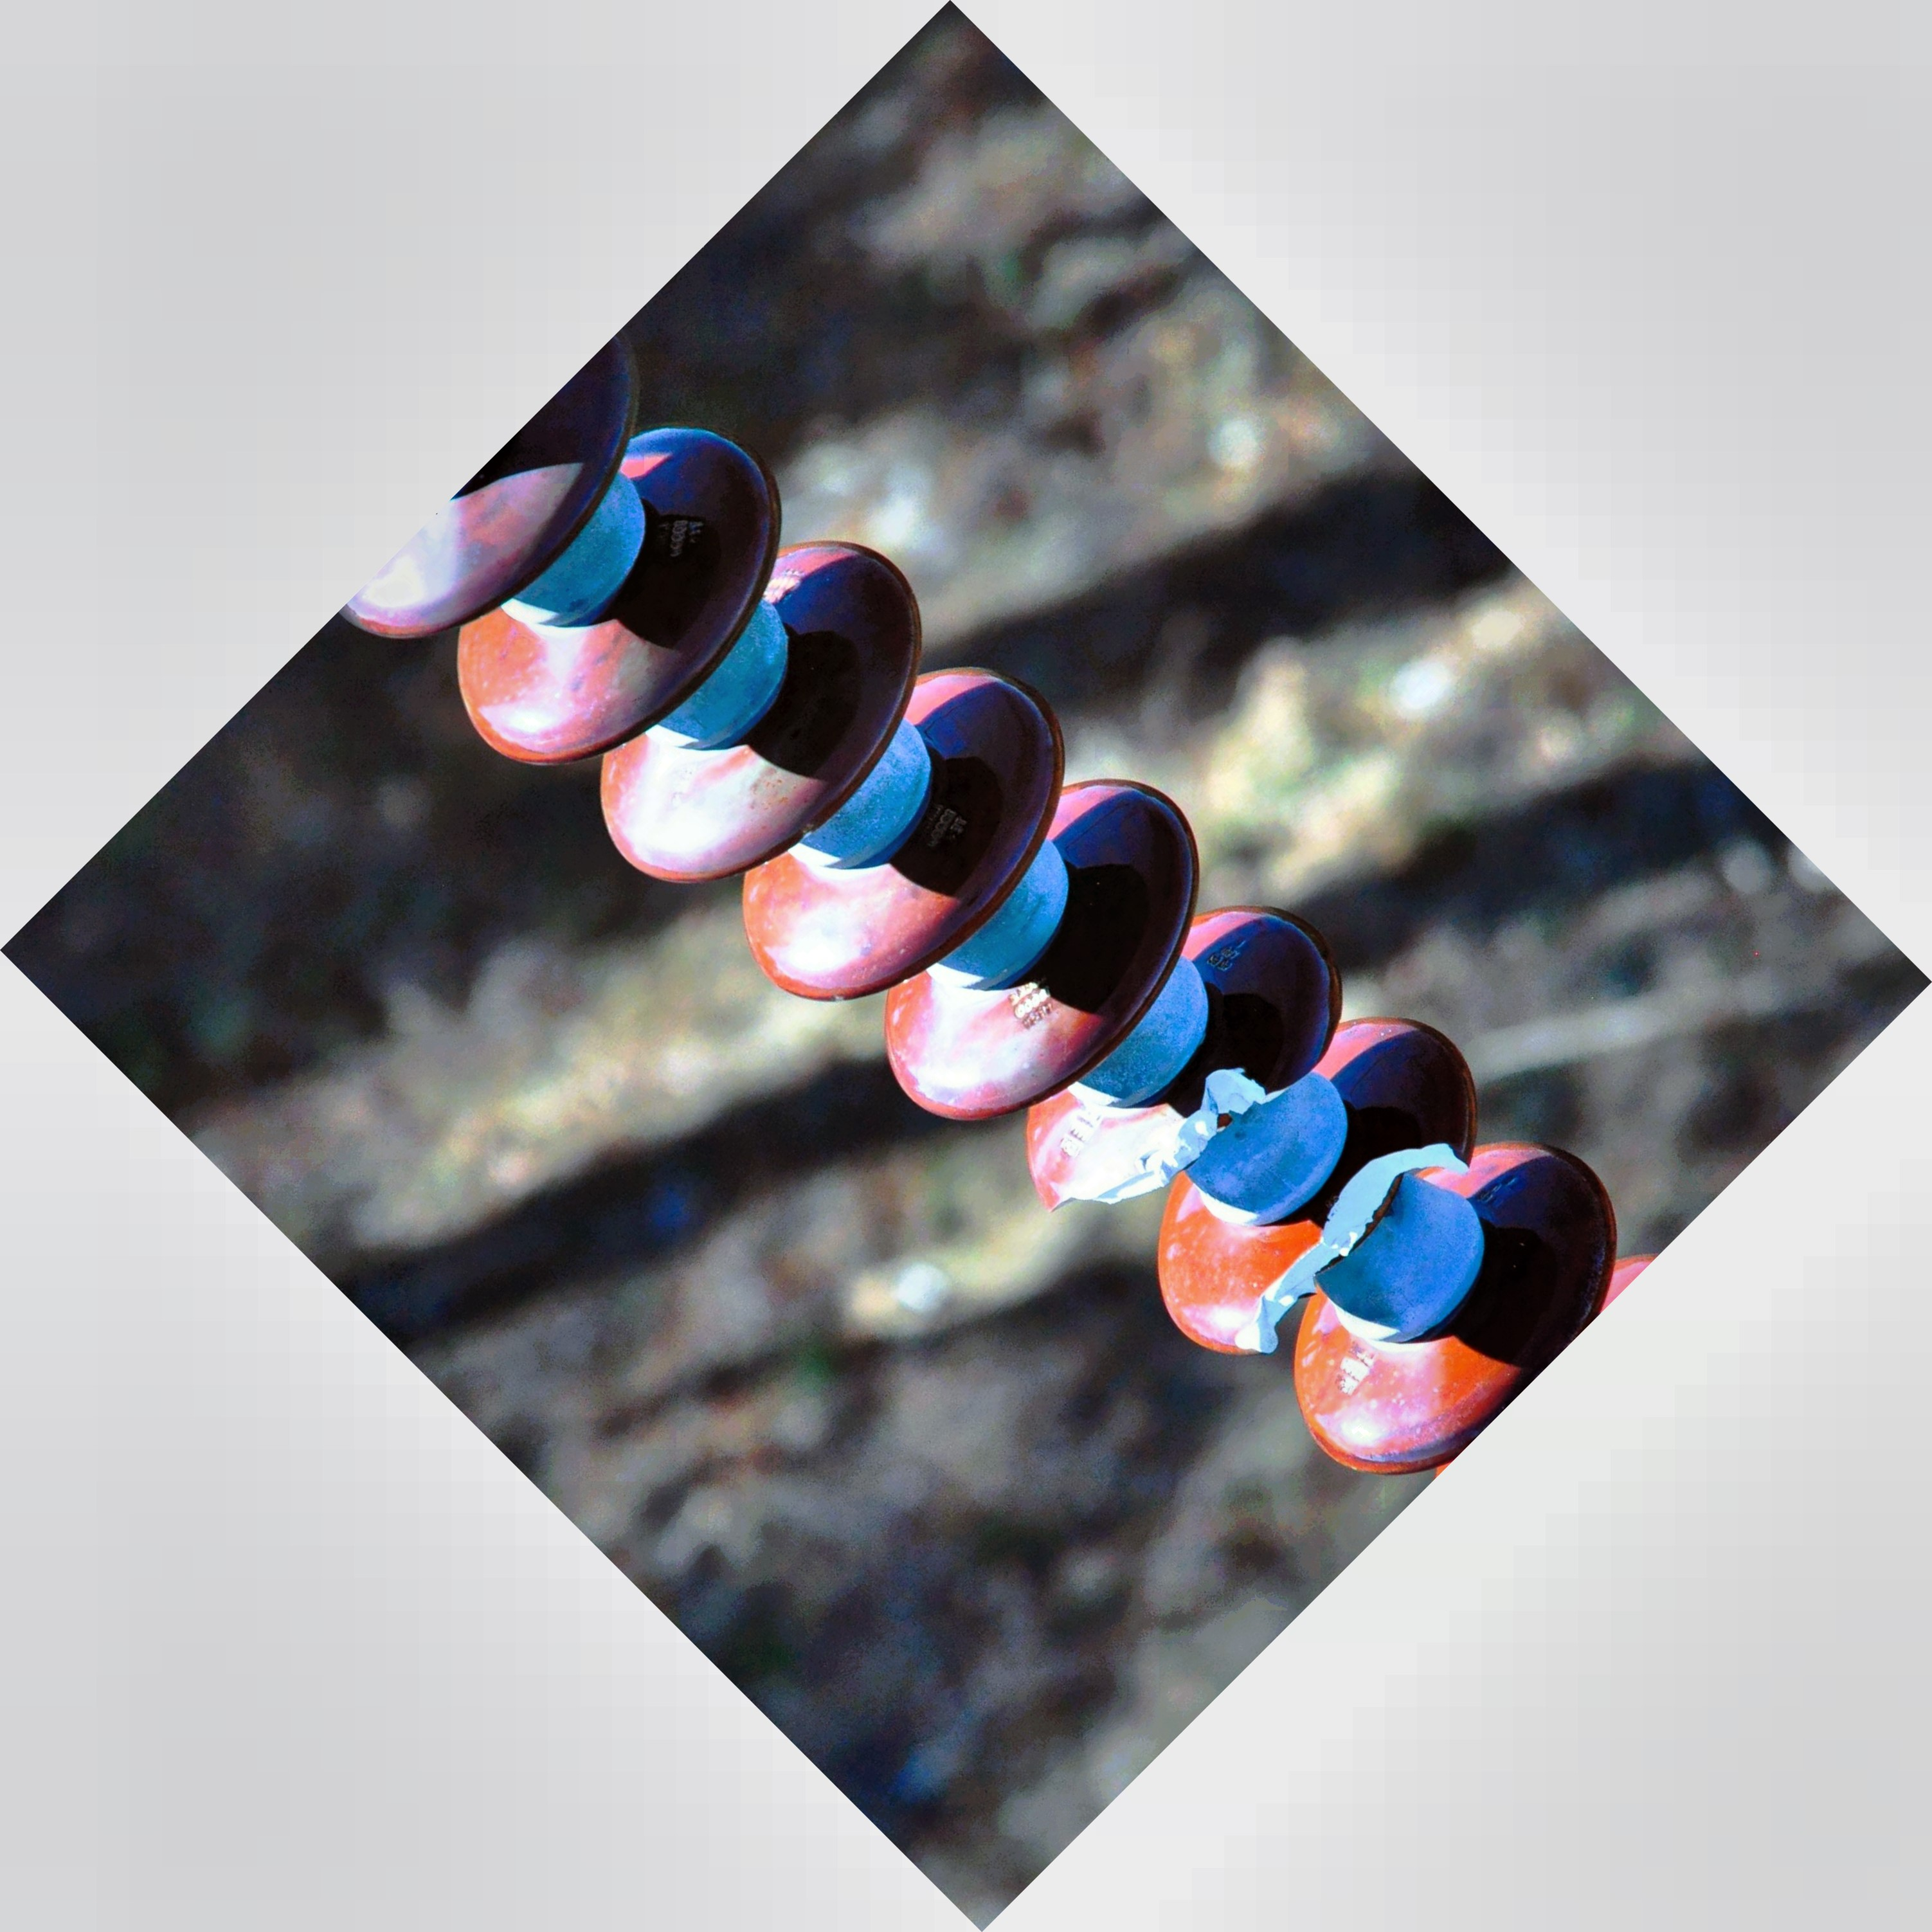insulator breakage: (1012, 902, 1500, 1362)
